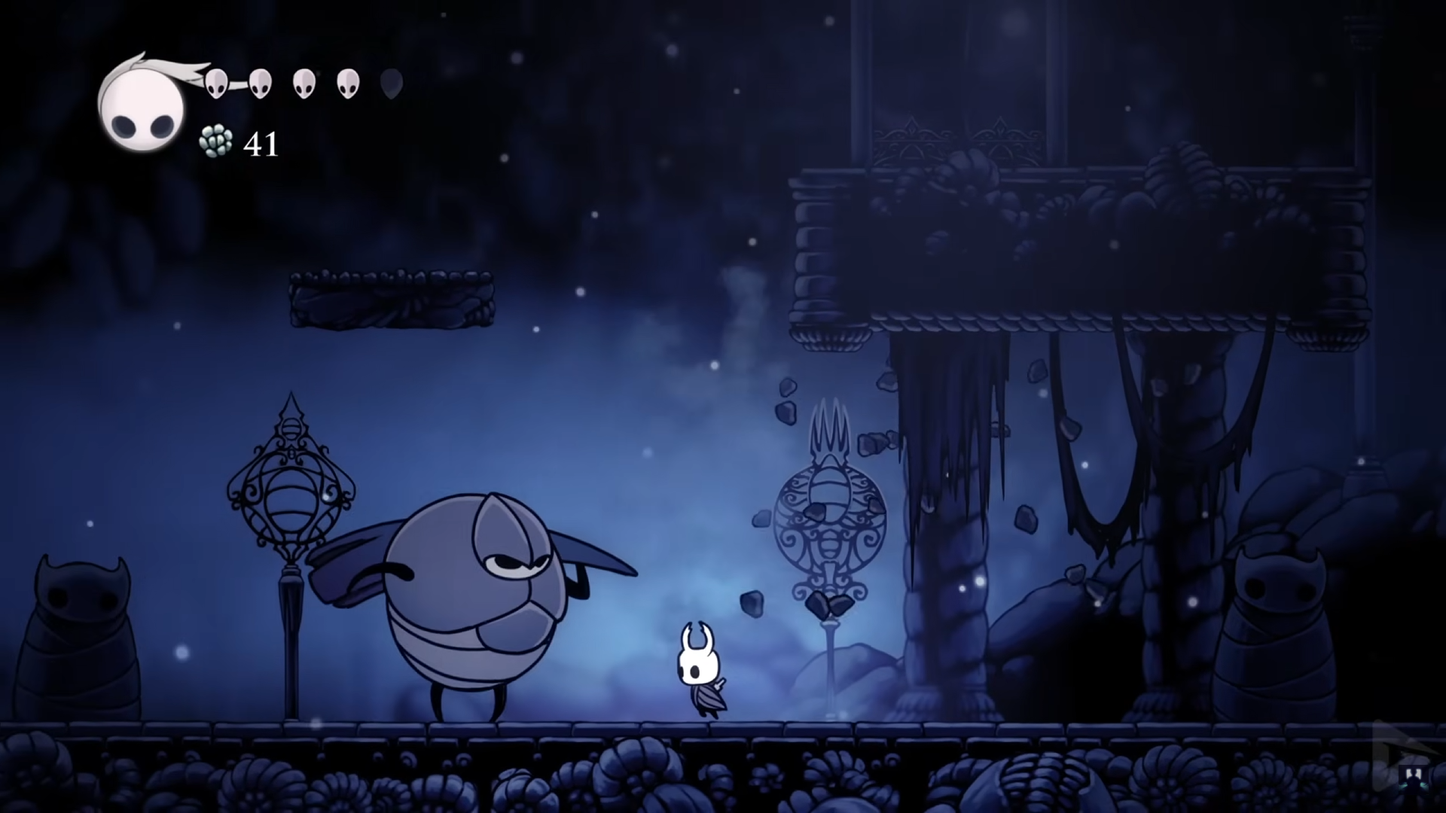HK: (674, 624, 732, 726)
